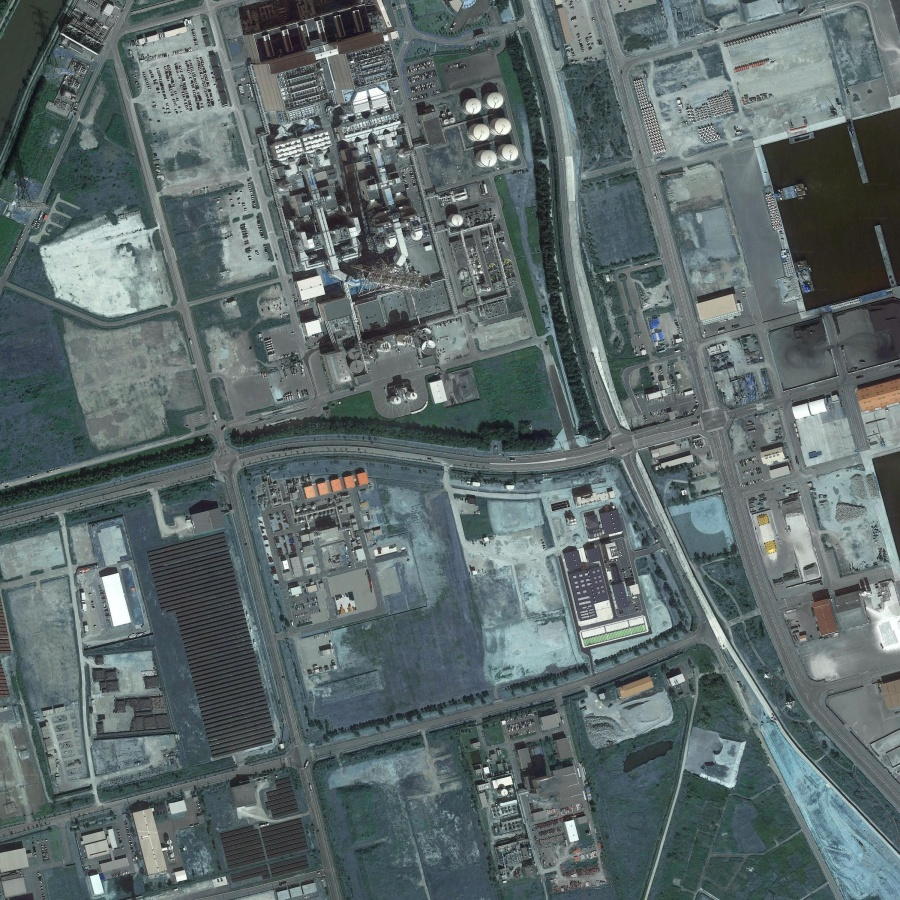PowerPlant: (250, 18, 530, 408)
